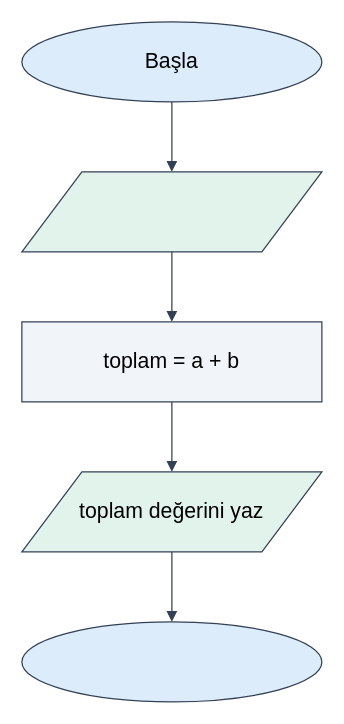
This 344x724 diagram has some shape labels left out. The box of each missing label's shape, as (x1, y1, x2, y2) in pixels:
a ve b sayılarını oku: (21, 171, 322, 252)
Bitir: (21, 621, 322, 702)
